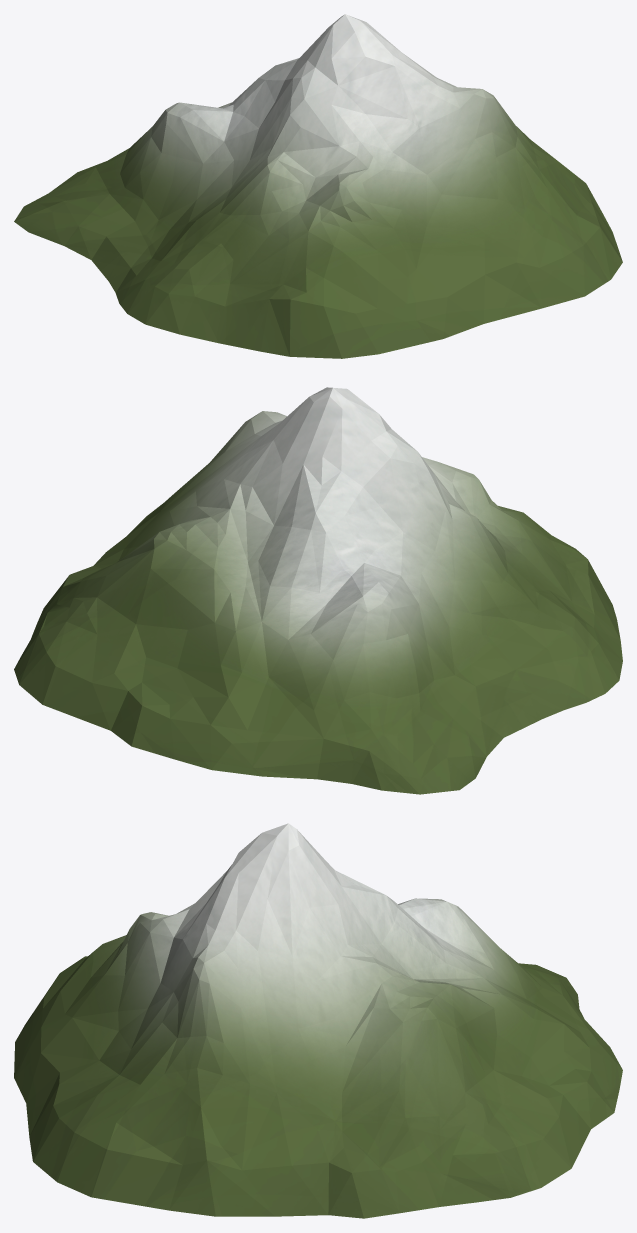
Rendered from Around Mountain.fbx.
The picture shows the model from 3 angles, top to bottom: view 1: azimuth 30°, elevation 25°; view 2: azimuth 150°, elevation 25°; view 3: azimuth 270°, elevation 25°; orthographic projection. The views are drawn at different scales.
Visible parts, largest first — view 1: SM_Terrain_Mountain_01; view 2: SM_Terrain_Mountain_01; view 3: SM_Terrain_Mountain_01.
Boxes of the visible parts, x1,y1,x2,y2 form: SM_Terrain_Mountain_01: (14, 14, 622, 358); SM_Terrain_Mountain_01: (14, 387, 622, 794); SM_Terrain_Mountain_01: (14, 823, 622, 1218).
Bounding box in the file's own units: 4931 × 2367 × 4897.
Materials: 1 (1 with a texture image).
